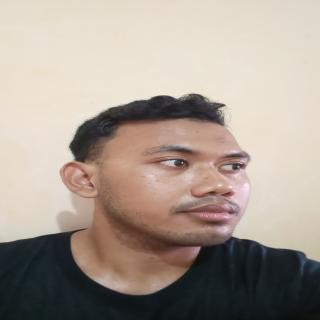Takut: (90, 113, 261, 251)
